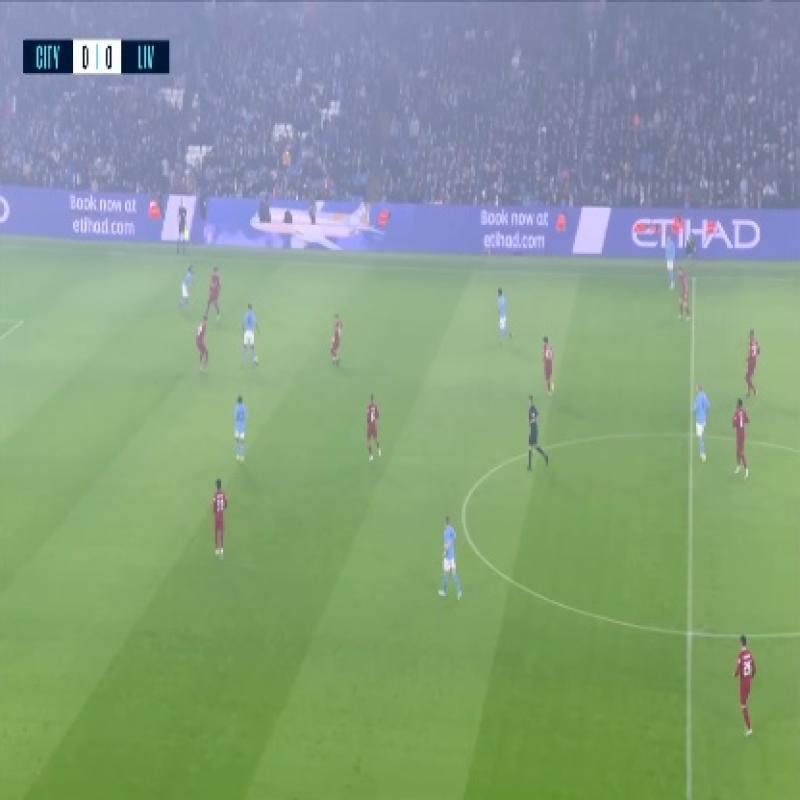13: (683, 264, 704, 290)
14: (679, 418, 700, 450)
15: (671, 610, 706, 654)
9: (7, 304, 34, 340)
c: (445, 483, 483, 527)
